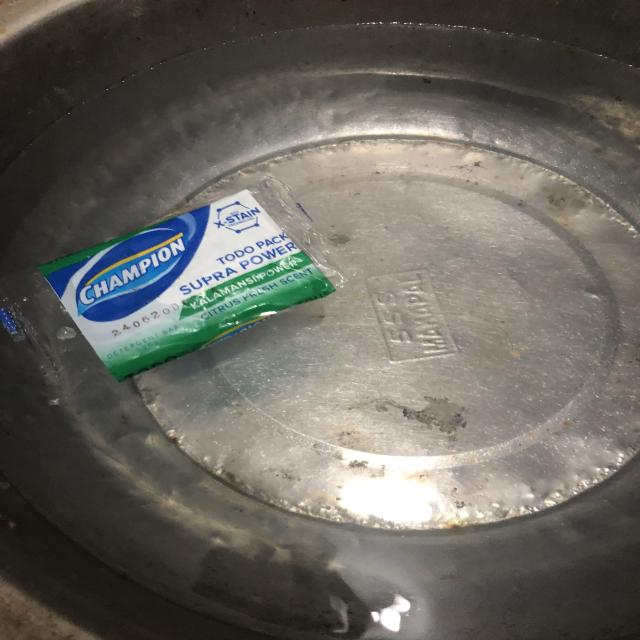Plastic Wrapper: (0, 171, 358, 385)
